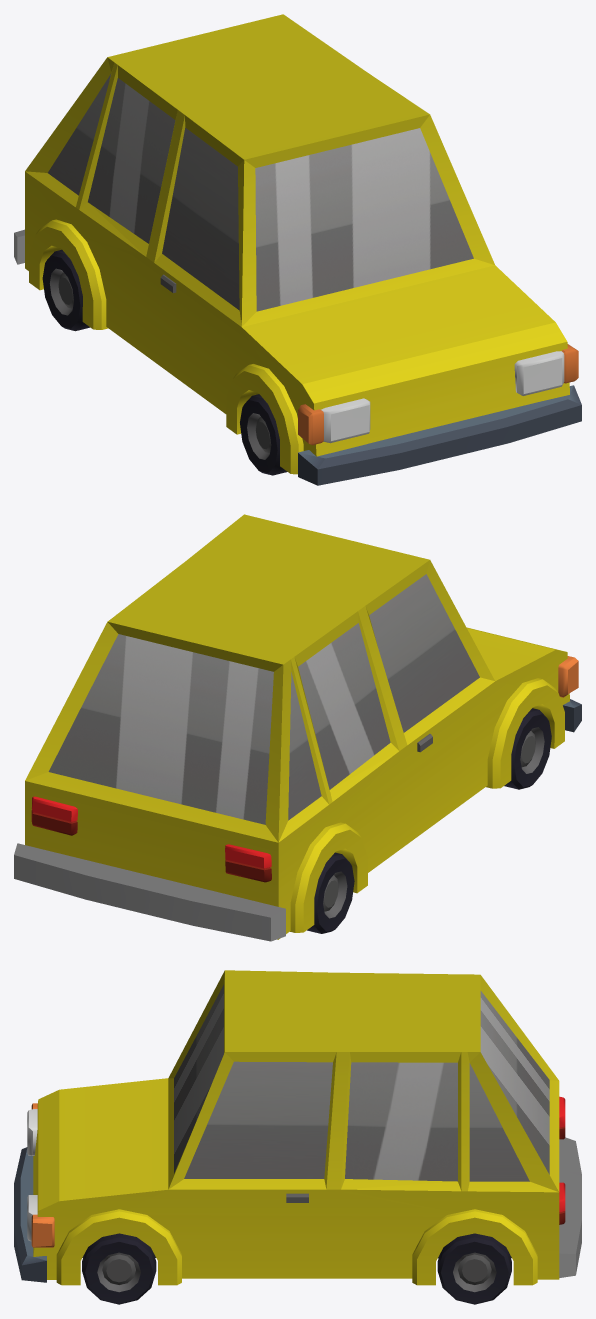
The model's file is Car_1_6.glb.
The picture shows the model from 3 angles, top to bottom: view 1: azimuth 30°, elevation 25°; view 2: azimuth 150°, elevation 25°; view 3: azimuth 270°, elevation 25°; orthographic projection. The views are drawn at different scales.
Parts seen in each view (by area): view 1: Car_1_6, Wheel_Br, Wheel_Fr; view 2: Car_1_6, Wheel_Fr, Wheel_Br; view 3: Car_1_6, Wheel_Fl, Wheel_Bl.
Part boxes in pixels (<box>): Car_1_6: <box>14,14,581,485</box>; Wheel_Br: <box>42,249,89,331</box>; Wheel_Fr: <box>240,394,287,475</box>; Car_1_6: <box>14,514,581,941</box>; Wheel_Fr: <box>504,708,551,789</box>; Wheel_Br: <box>307,852,354,933</box>; Car_1_6: <box>14,970,581,1285</box>; Wheel_Fl: <box>82,1233,156,1304</box>; Wheel_Bl: <box>437,1233,511,1304</box>.
Bounding box in the file's own units: 1.05 × 0.9433 × 2.07.
Materials: 4 (4 with a texture image).
